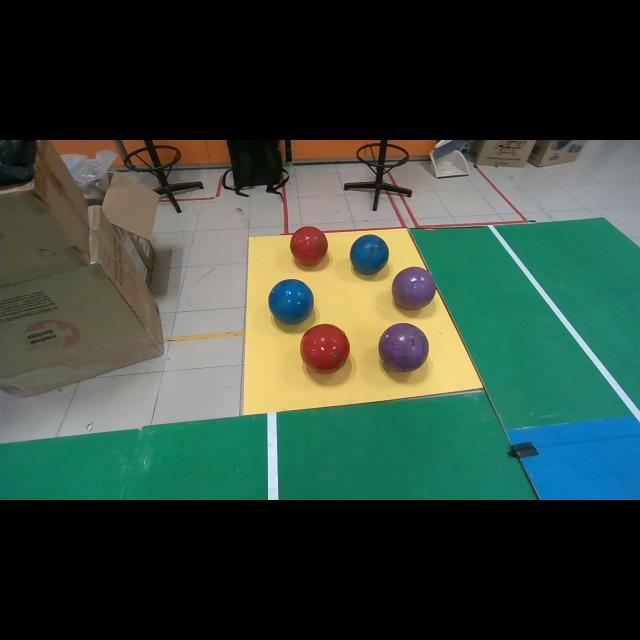B: (270, 280, 312, 324), (350, 235, 389, 275)
P: (380, 322, 429, 371), (391, 266, 436, 310)
R: (300, 324, 350, 374), (290, 226, 328, 265)
